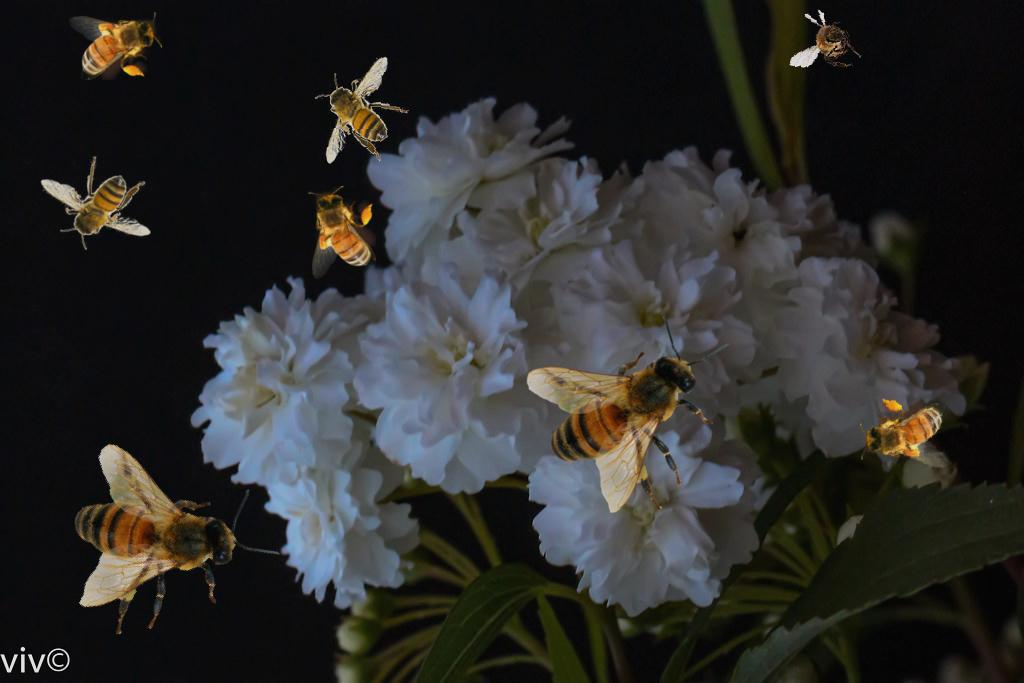Bee: (15, 397, 300, 683), (526, 314, 730, 513), (311, 52, 412, 168), (40, 156, 151, 250), (854, 391, 958, 474), (69, 12, 162, 80), (308, 186, 376, 279), (789, 5, 868, 77)
